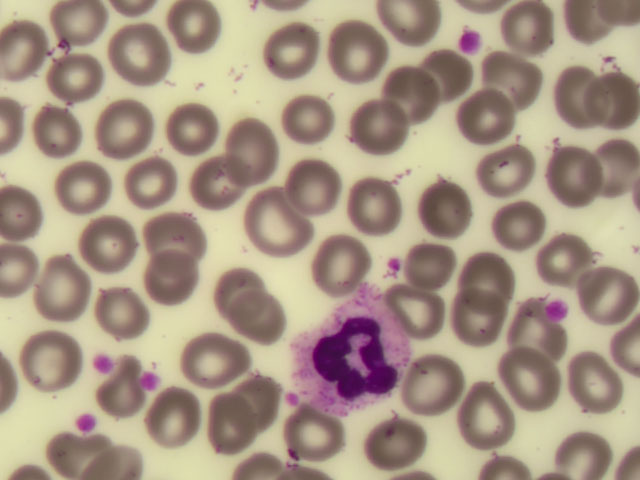Platelets: (545, 297, 570, 323), (459, 28, 484, 54), (94, 353, 115, 374), (76, 411, 98, 431), (140, 371, 161, 388), (383, 257, 404, 273)
RBC: (2, 19, 55, 73), (47, 47, 100, 101), (117, 31, 170, 85), (168, 3, 221, 57), (166, 95, 219, 149), (94, 99, 147, 153), (38, 106, 91, 160), (64, 163, 117, 217), (125, 155, 178, 209), (183, 157, 236, 211), (220, 125, 273, 179), (288, 158, 341, 212), (254, 188, 307, 242), (355, 176, 408, 230), (319, 230, 372, 284), (286, 88, 339, 142), (265, 30, 318, 84), (329, 26, 382, 80), (351, 98, 404, 152), (373, 72, 426, 126), (422, 55, 475, 109), (453, 93, 506, 147), (479, 57, 532, 111), (502, 3, 555, 57), (384, 2, 437, 56), (550, 73, 603, 127), (587, 73, 640, 127), (587, 133, 640, 187), (543, 144, 596, 198), (480, 146, 533, 200), (429, 177, 482, 231), (415, 227, 468, 281), (403, 289, 456, 343), (442, 287, 495, 341), (466, 256, 519, 310), (498, 190, 551, 244), (539, 225, 592, 279), (578, 259, 631, 313), (573, 348, 626, 402), (506, 352, 559, 406), (508, 312, 561, 366), (455, 386, 508, 440), (408, 358, 461, 412), (372, 417, 425, 471), (561, 426, 614, 480), (297, 411, 350, 465), (203, 394, 256, 448), (228, 373, 281, 427), (191, 340, 244, 394), (235, 289, 288, 343), (218, 265, 271, 319), (152, 257, 205, 311), (157, 209, 210, 263), (89, 217, 142, 271), (44, 258, 97, 312), (25, 330, 78, 384), (92, 287, 145, 341), (88, 426, 141, 480), (152, 390, 205, 444), (55, 1, 108, 54), (1, 183, 53, 237)
WBC: (286, 293, 412, 419)
